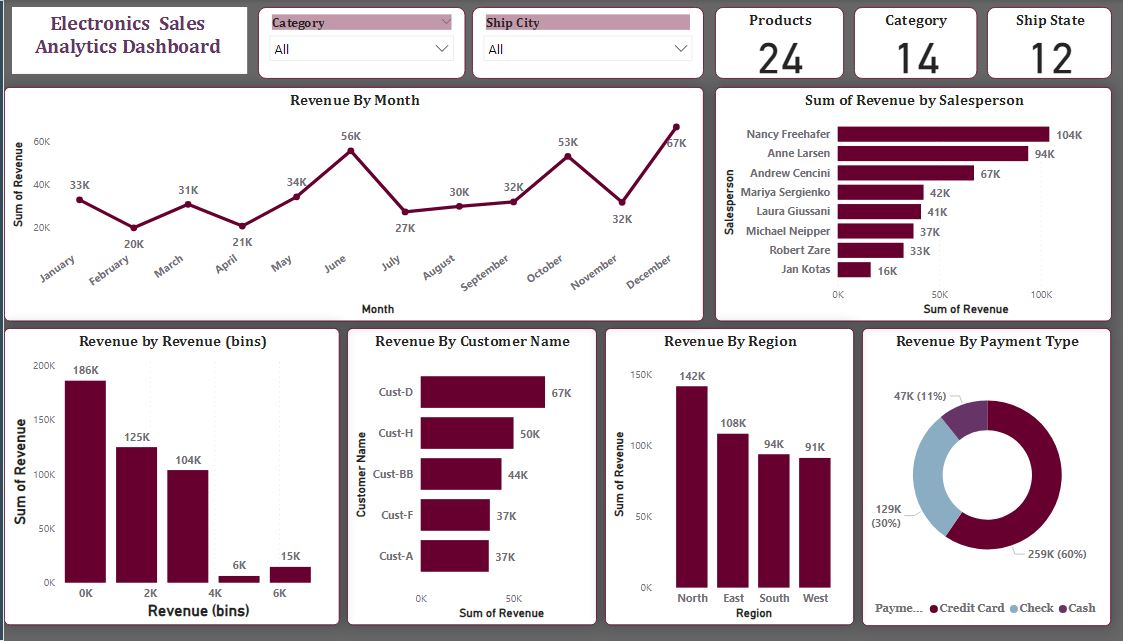

What the dashboard file says about the page in this screenshot:
{"tool":"powerbi","page":{"name":"Page 1","canvas":[1380,785],"ordinal":0},"visuals":[{"type":"donutChart","title":"Revenue By Payment Type","fields":{"Category":["orders.Payment Type"],"Y":["orders.Revenue"]},"box":[1059.3,401.7,304.9,364.9],"z":0},{"type":"textbox","box":[18.4,8.6,287.8,82.1],"z":1000},{"type":"clusteredBarChart","fields":{"Category":["orders.Salesperson"],"Y":["orders.Revenue"]},"box":[879.3,106.5,486.2,286.6],"z":2000},{"type":"clusteredBarChart","title":"Revenue By Customer Name","fields":{"Category":["orders.Customer Name"],"Y":["orders.Revenue"]},"box":[428.6,401.7,306.2,363.7],"z":3000},{"type":"clusteredColumnChart","title":"Revenue By Region","fields":{"Category":["orders.Region"],"Y":["orders.Revenue"]},"box":[744.6,401.7,304.9,363.7],"z":4000},{"type":"lineChart","title":" Revenue By Month","fields":{"Category":["orders.Order Date.Variation.Date Hierarchy.Month"],"Y":["orders.Revenue"]},"box":[8.6,106.5,857.3,286.6],"z":5000},{"type":"slicer","title":"Revenue By Revenue (bins)","fields":{"Values":["orders.Category"]},"box":[319.6,8.6,253.5,88.2],"z":6000},{"type":"slicer","title":"Revenue By Revenue (bins)","fields":{"Values":["orders.Ship City"]},"box":[581.7,8.6,284.1,88.2],"z":7000},{"type":"card","title":"Products ","fields":{"Values":["orders.Product Name"]},"box":[879.3,8.6,158,88.2],"z":8000},{"type":"card","title":"Category ","fields":{"Values":["orders.Category"]},"box":[1049.5,8.6,150.6,88.2],"z":9000},{"type":"card","title":"Ship State","fields":{"Values":["orders.Ship State"]},"box":[1212.4,8.6,153.1,88.2],"z":10000},{"type":"clusteredColumnChart","title":"Revenue by Revenue (bins)","fields":{"Category":["orders.Revenue (bins)"],"Y":["orders.Revenue"]},"box":[8.6,401.7,411.5,363.7],"z":11000},{"type":"shape","box":[0,0,8.7,785],"z":12000}]}

Visuals, with their boxes in screenshot pixels (x1, y1, x2, y2), scaled from the page's 1380x785 canvas onto the 1123x641 screenshot:
"Revenue By Payment Type" donutChart: 862, 328, 1110, 626
textbox: 15, 7, 249, 74
clusteredBarChart - orders.Salesperson x orders.Revenue: 716, 87, 1111, 321
"Revenue By Customer Name" clusteredBarChart: 349, 328, 598, 625
"Revenue By Region" clusteredColumnChart: 606, 328, 854, 625
" Revenue By Month" lineChart: 7, 87, 705, 321
"Revenue By Revenue (bins)" slicer: 260, 7, 466, 79
"Revenue By Revenue (bins)" slicer: 473, 7, 705, 79
"Products " card: 716, 7, 844, 79
"Category " card: 854, 7, 977, 79
"Ship State" card: 987, 7, 1111, 79
"Revenue by Revenue (bins)" clusteredColumnChart: 7, 328, 342, 625
shape: 0, 0, 7, 640
